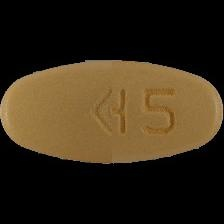61786-765: (0, 0, 224, 224)
